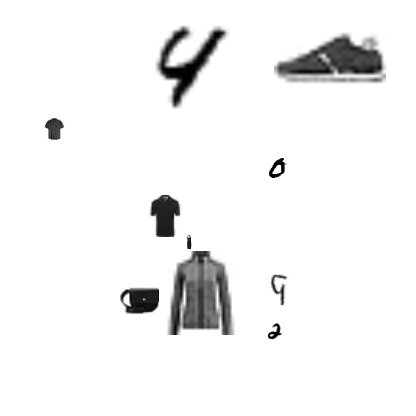0: (263, 154, 291, 182)
2: (264, 321, 286, 343)
4: (129, 3, 241, 115)
9: (258, 266, 300, 308)
Bag: (119, 279, 161, 321)
Coat: (159, 251, 243, 335)
Dress: (182, 235, 196, 249)
Shirt: (43, 118, 65, 140)
Sneaker: (274, 2, 386, 114)
T-shirt/top: (144, 195, 186, 237)
